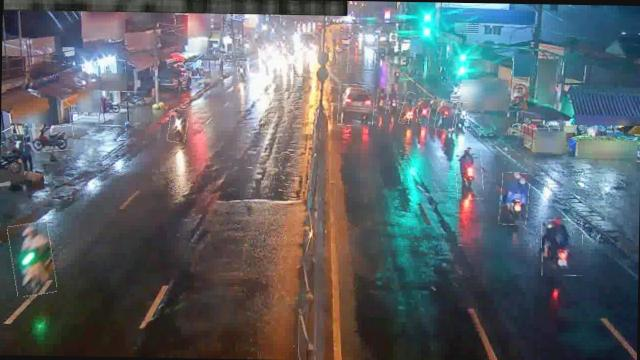Bike: (9, 222, 56, 296), (541, 219, 583, 276), (500, 172, 530, 225), (454, 148, 484, 198), (23, 126, 74, 152), (434, 99, 456, 130), (168, 108, 188, 142), (400, 92, 414, 124), (120, 92, 148, 108), (456, 102, 468, 132), (388, 83, 400, 112), (377, 87, 388, 115), (418, 98, 430, 122), (238, 61, 248, 82)
Car: (338, 84, 375, 126)
